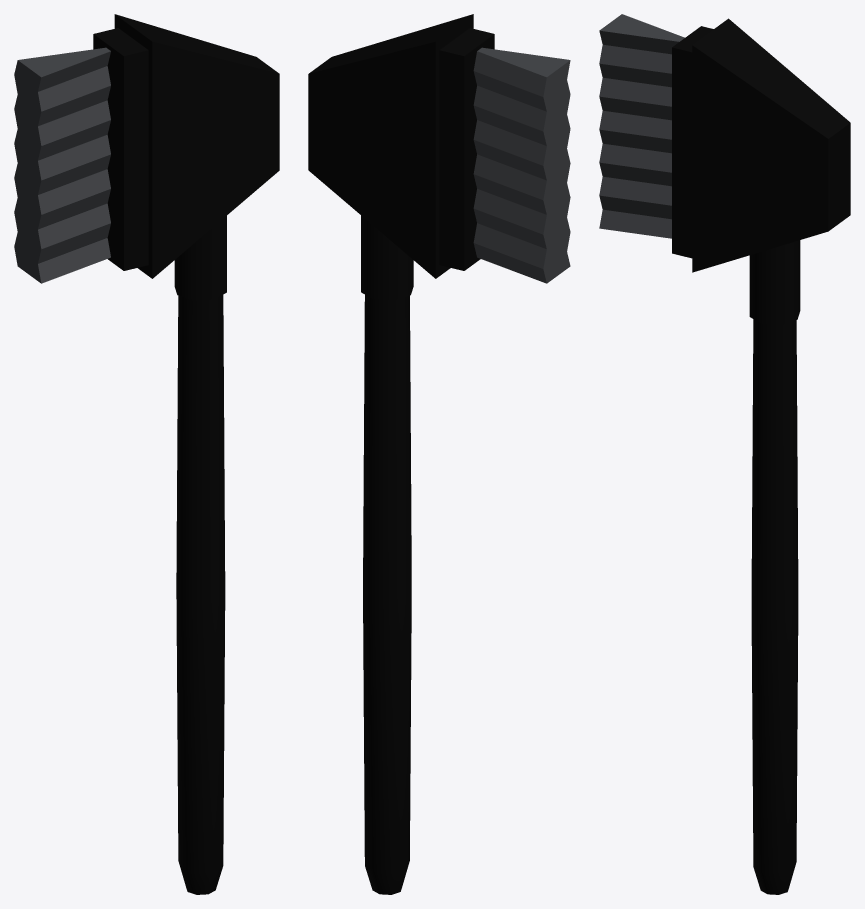
File: Tools Lash Brush.glb
3 views of the same model, side by side, from view 1: azimuth 30°, elevation 25°; view 2: azimuth 150°, elevation 25°; view 3: azimuth 330°, elevation 25° (orthographic). The views are drawn at different scales.
Parts seen in each view (by area): view 1: tools_lash_brush.001; view 2: tools_lash_brush.001; view 3: tools_lash_brush.001.
Part boxes in pixels (<box>): tools_lash_brush.001: <box>14,14,279,894</box>; tools_lash_brush.001: <box>308,14,570,894</box>; tools_lash_brush.001: <box>599,14,850,894</box>.
Bounding box in the file's own units: 2.81 × 9.87 × 0.7727.
Materials: 1 (1 with a texture image).
